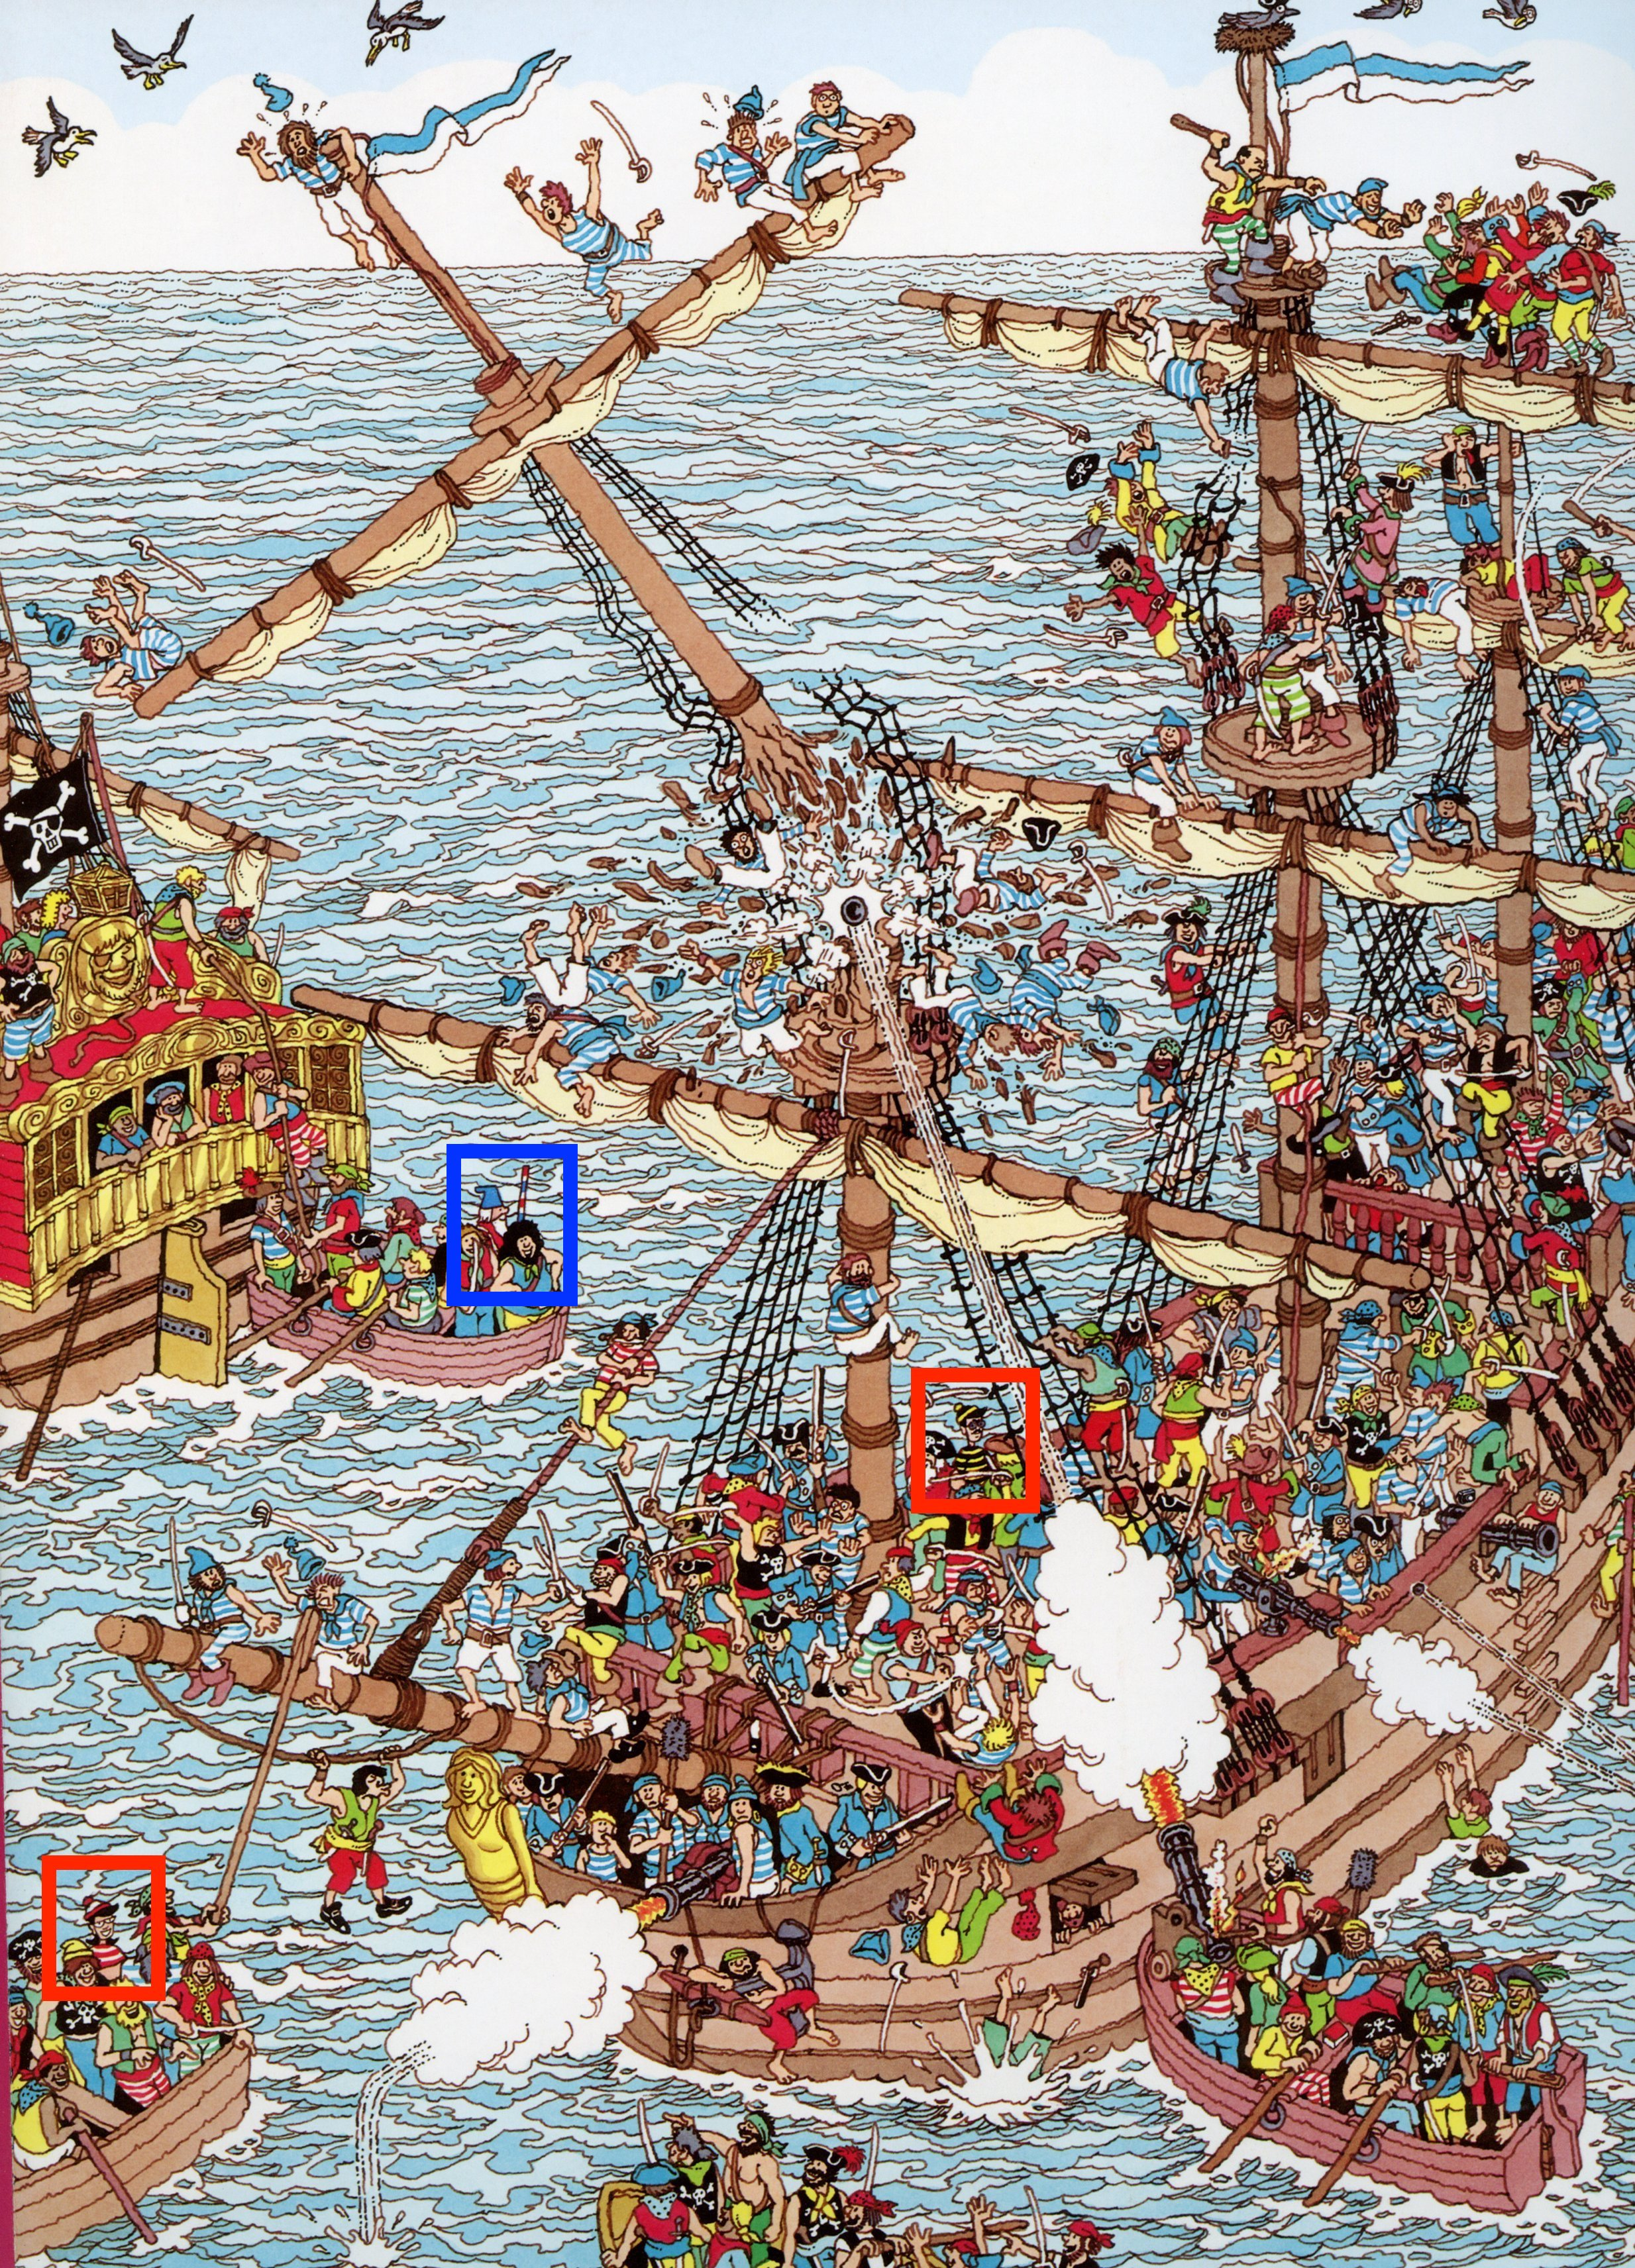odlaw: (916, 1368, 1066, 1562)
